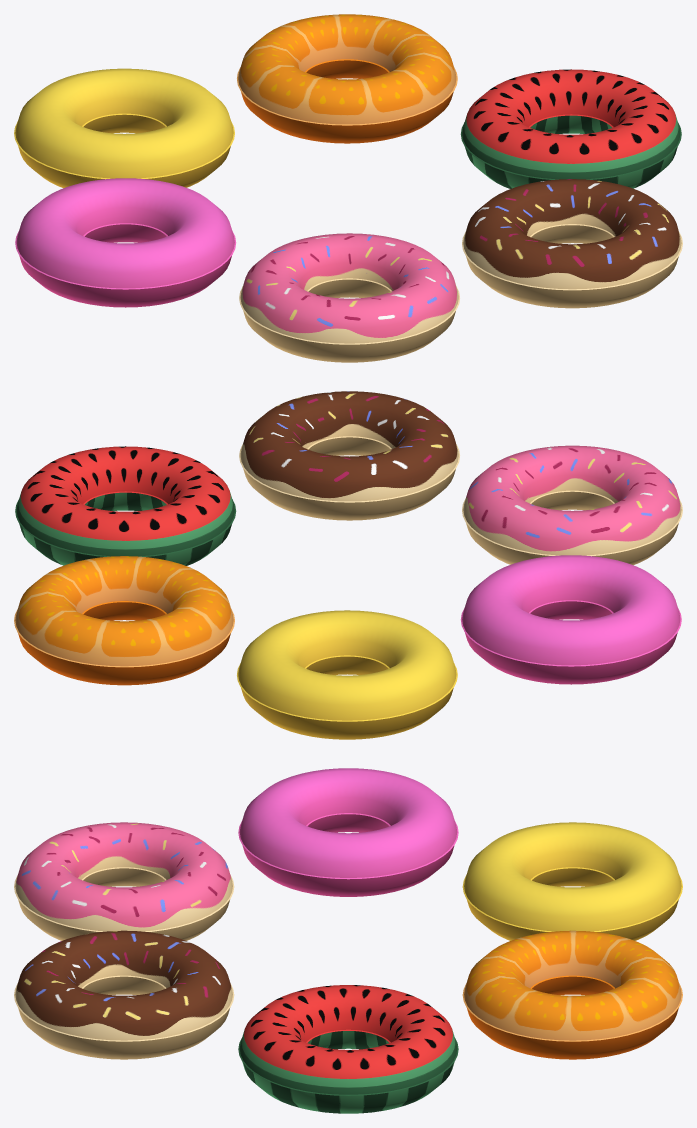
Rendered from Inflatable_Rings.fbx.
3 renders of one model, top to bottom at view 1: azimuth 30°, elevation 25°; view 2: azimuth 150°, elevation 25°; view 3: azimuth 270°, elevation 25°, orthographic.
Visible parts, largest first — view 1: Inflatable_Ring_01, Inflatable_Ring_03, Inflatable_Ring_06, Inflatable_Ring_05, Inflatable_Ring_04, Inflatable_Ring_02; view 2: Inflatable_Ring_01, Inflatable_Ring_02, Inflatable_Ring_05, Inflatable_Ring_03, Inflatable_Ring_04, Inflatable_Ring_06; view 3: Inflatable_Ring_05, Inflatable_Ring_03, Inflatable_Ring_01, Inflatable_Ring_04, Inflatable_Ring_02, Inflatable_Ring_06.
Part boxes in pixels (x1,y1,x2,y2): Inflatable_Ring_01: (15,178,236,307); Inflatable_Ring_03: (237,14,457,143); Inflatable_Ring_06: (239,233,459,362); Inflatable_Ring_05: (462,179,682,308); Inflatable_Ring_04: (460,69,681,188); Inflatable_Ring_02: (14,68,234,188); Inflatable_Ring_01: (460,555,681,684); Inflatable_Ring_02: (237,610,457,739); Inflatable_Ring_05: (239,391,459,520); Inflatable_Ring_03: (14,556,234,685); Inflatable_Ring_04: (15,446,236,565); Inflatable_Ring_06: (462,445,682,565); Inflatable_Ring_05: (14,930,234,1059); Inflatable_Ring_03: (462,930,682,1059); Inflatable_Ring_01: (238,768,458,896); Inflatable_Ring_04: (238,985,458,1113); Inflatable_Ring_02: (462,822,682,940); Inflatable_Ring_06: (14,822,234,940).
Bounding box in the file's own units: 572 × 50 × 522.
Materials: 3 (3 with a texture image).
